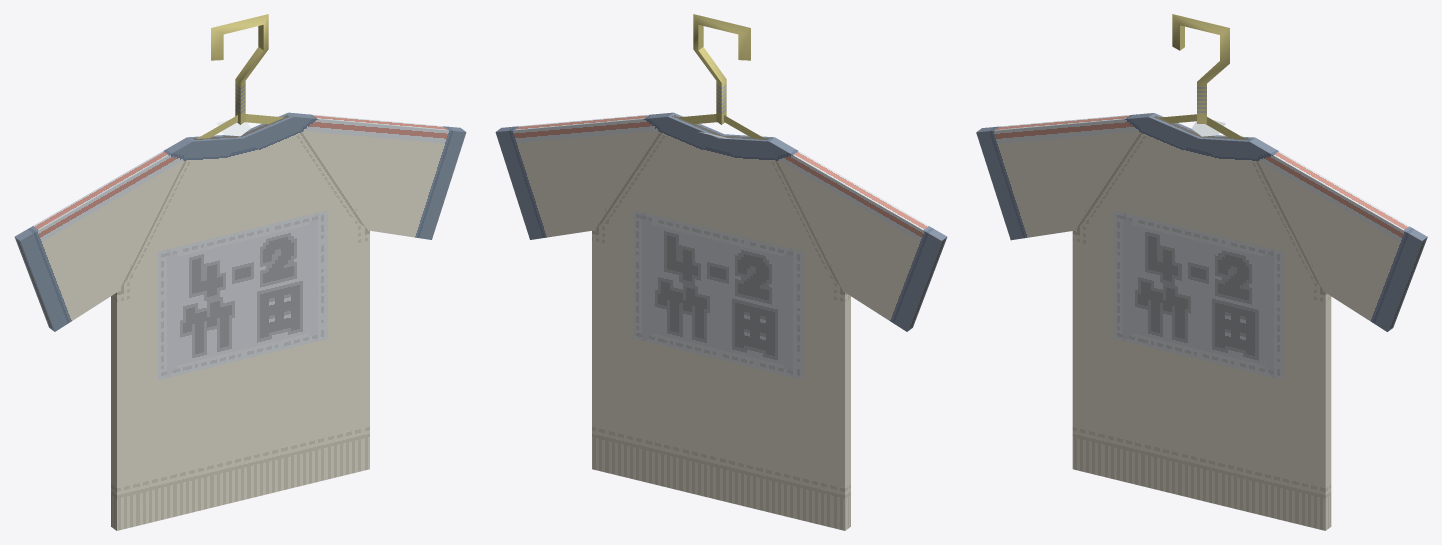
The model's file is 04d0_Gym_Uniform.glb.
The picture shows the model from 3 angles, left to right: view 1: azimuth 30°, elevation 25°; view 2: azimuth 150°, elevation 25°; view 3: azimuth 330°, elevation 25°; orthographic projection.
Parts seen in each view (by area): view 1: part_0; view 2: part_0; view 3: part_0.
Part boxes in pixels (<box>): part_0: <box>14,14,466,530</box>; part_0: <box>495,14,947,530</box>; part_0: <box>976,14,1427,530</box>.
Bounding box in the file's own units: 0.661 × 0.6754 × 0.0347.
Materials: 1 (1 with a texture image).
